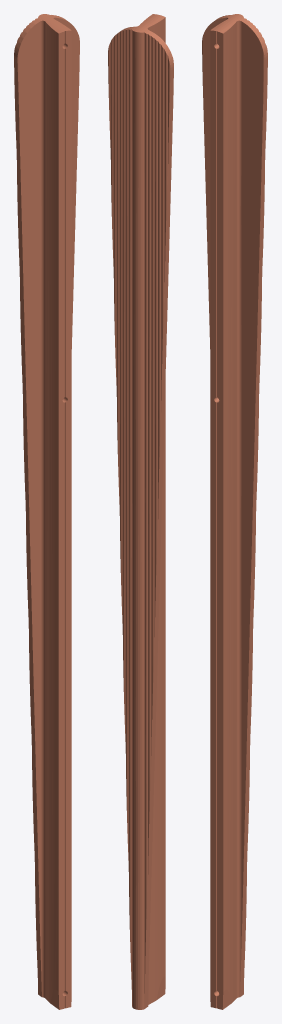
Rendered from toucans pvd r gold.glb.
3 renders of one model, left to right at view 1: azimuth 30°, elevation 25°; view 2: azimuth 150°, elevation 25°; view 3: azimuth 330°, elevation 25°, orthographic.
Visible parts, largest first — view 1: CABINET_HANDLE_TOUCANS; view 2: CABINET_HANDLE_TOUCANS; view 3: CABINET_HANDLE_TOUCANS.
Part boxes in pixels (bbox=[...]): CABINET_HANDLE_TOUCANS: bbox=[14, 14, 79, 1009]; CABINET_HANDLE_TOUCANS: bbox=[108, 14, 173, 1009]; CABINET_HANDLE_TOUCANS: bbox=[202, 14, 267, 1009].
Size of the model in its own units: 0.5438 by 8.11 by 0.35.
